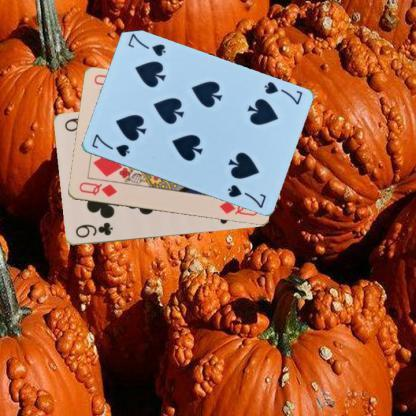7s: (261, 79, 303, 106), (89, 131, 130, 158)
9c: (73, 220, 114, 240)
Qd: (76, 180, 118, 198)
